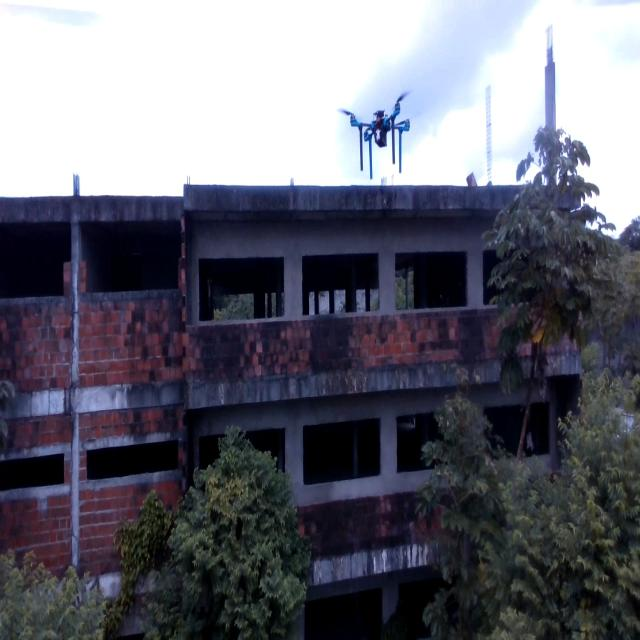-uav-: (325, 71, 426, 210)
